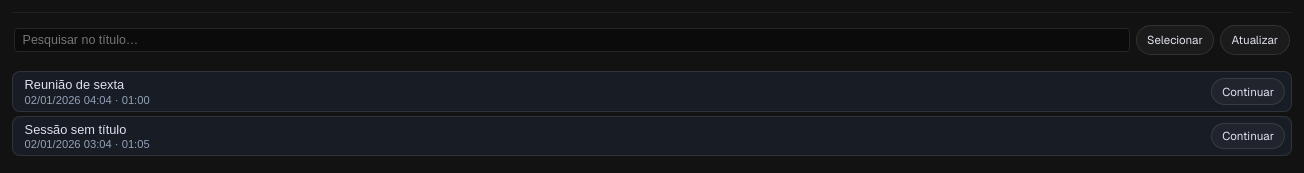
Test: HistoryPanel › mostra aviso quando a busca não encontra sessão
Expected: the text "Reunião de sexta" is shown, x1=25 y1=77 x2=124 y2=92
Step 1. Type "inexistente" into the search field labelled "Pesquisar no título…" → (572, 40), box x1=14 y1=28 x2=1130 y2=52
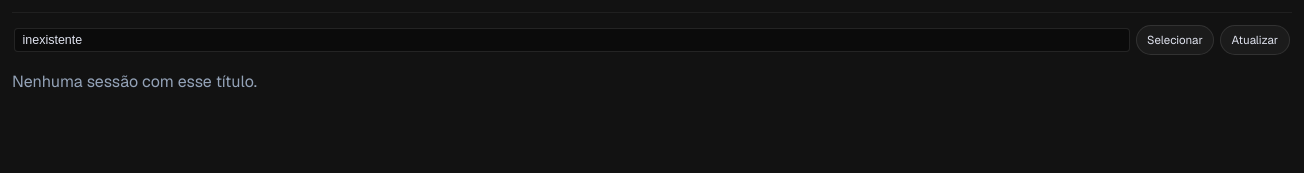
Expected: the text "Nenhuma sessão com esse título." is shown, x1=12 y1=71 x2=257 y2=92
